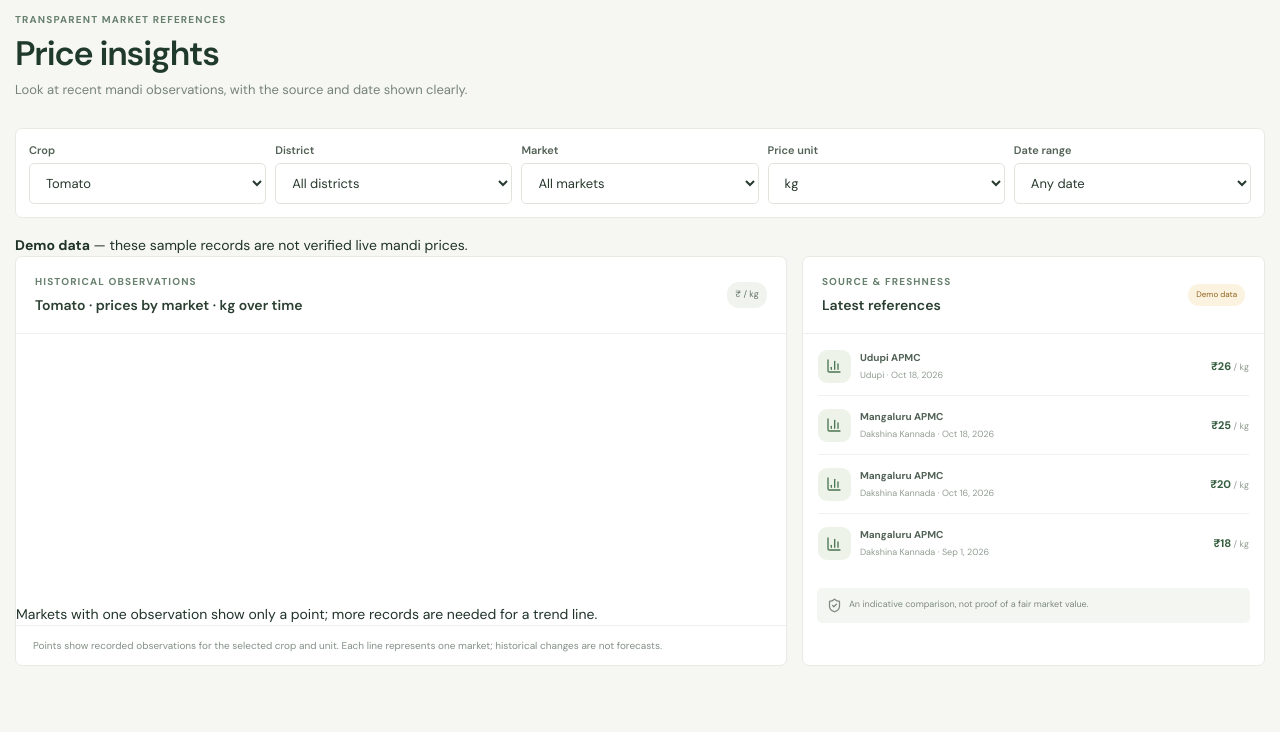
Price Insights page › filters by district, date range, and unit without mixing scales
Expected: the text "these sample records are not verified" is shown, left=90, top=236, right=468, bottom=254
Expected: the text "₹18" is shown, left=1213, top=536, right=1231, bottom=550
Select "Udupi" in the dropdown labelled "District": (394, 184) left=275, top=163, right=512, bottom=204
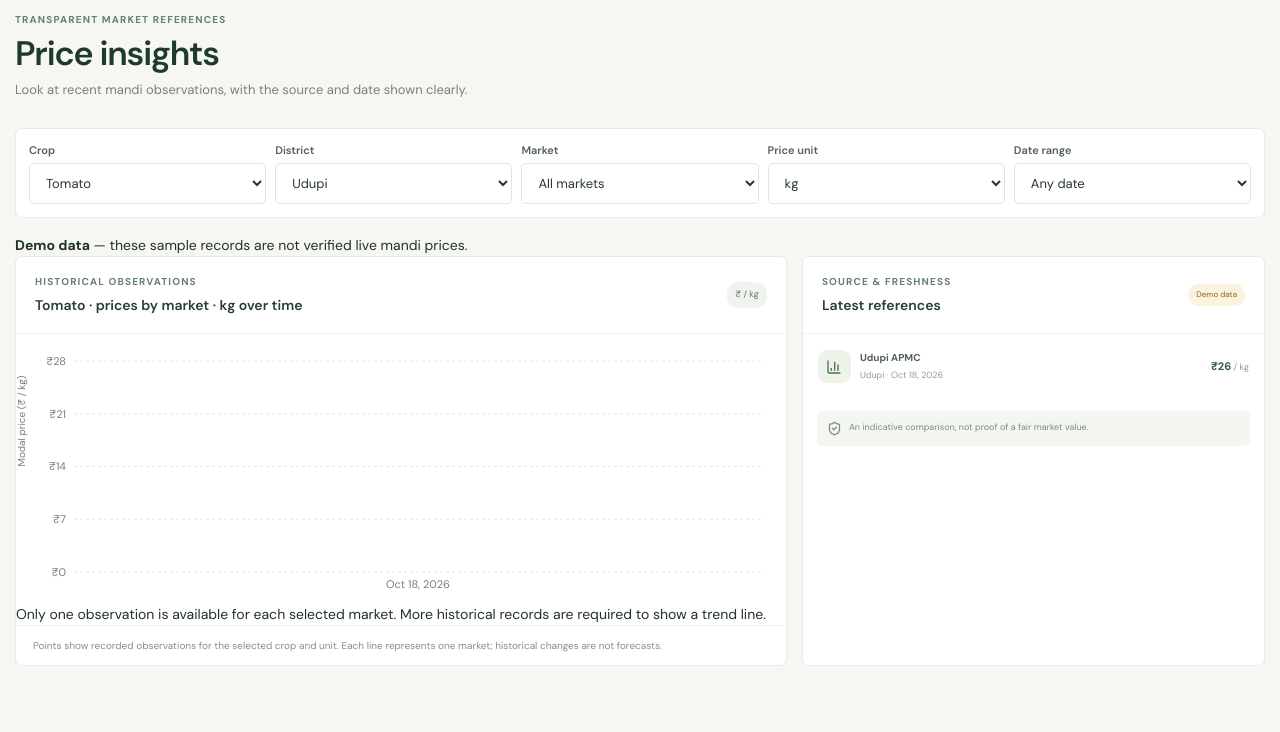
Expected: the text "₹26" is shown, left=1211, top=359, right=1231, bottom=373
Now the text "₹25" is gone
Select "Dakshina Kannada" in the dropdown labelled "District": (394, 184) left=275, top=163, right=512, bottom=204
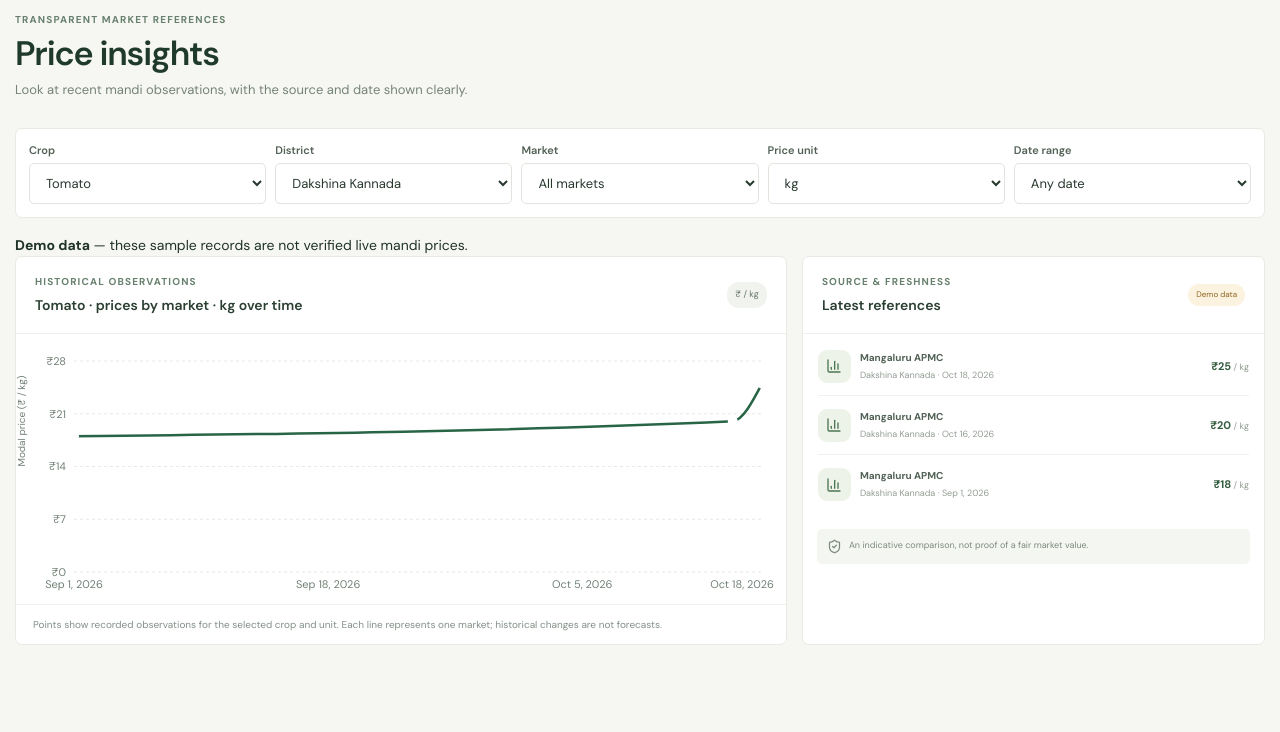
Select "kg" in the dropdown labelled "Price unit": (886, 184) left=768, top=163, right=1005, bottom=204
Now the text "₹18" is shown, box left=1213, top=477, right=1231, bottom=491
Select "Past 7 days" in the dropdown labelled "Date range": (1132, 184) left=1014, top=163, right=1251, bottom=204
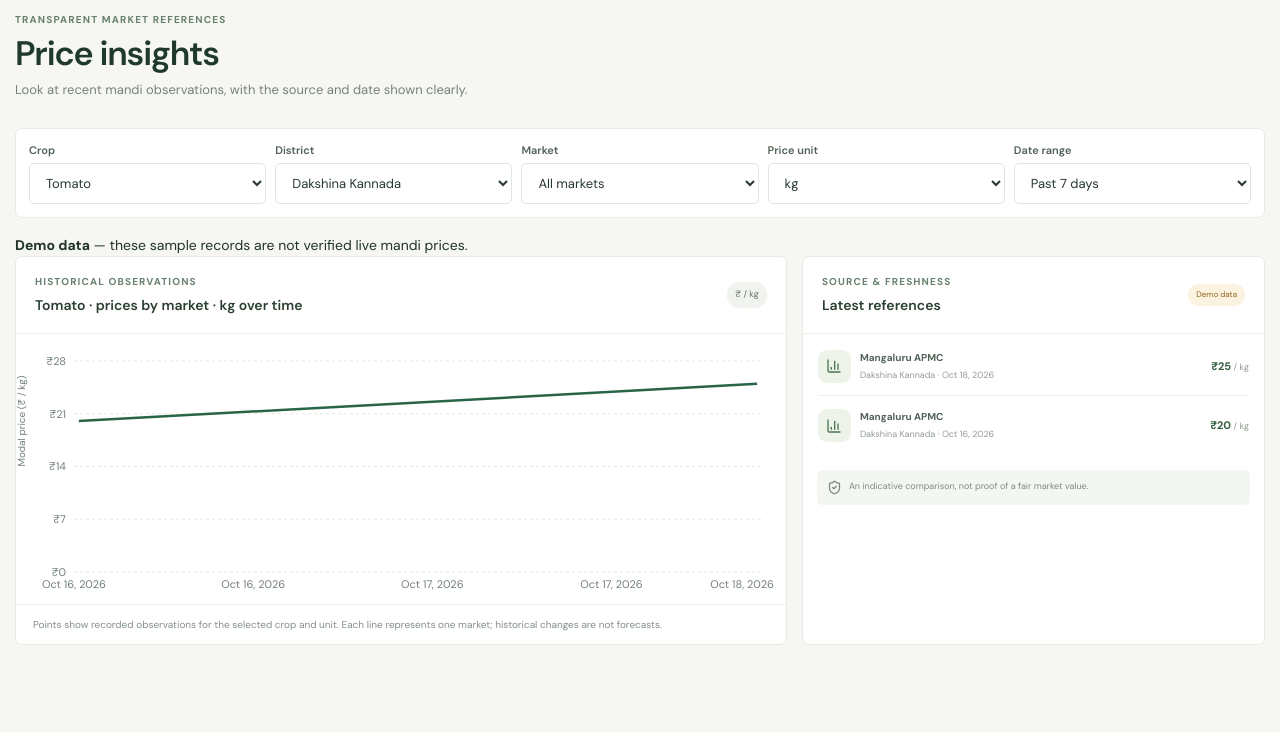
Now the text "₹18" is gone
Select "piece" in the dropdown labelled "Price unit": (886, 184) left=768, top=163, right=1005, bottom=204
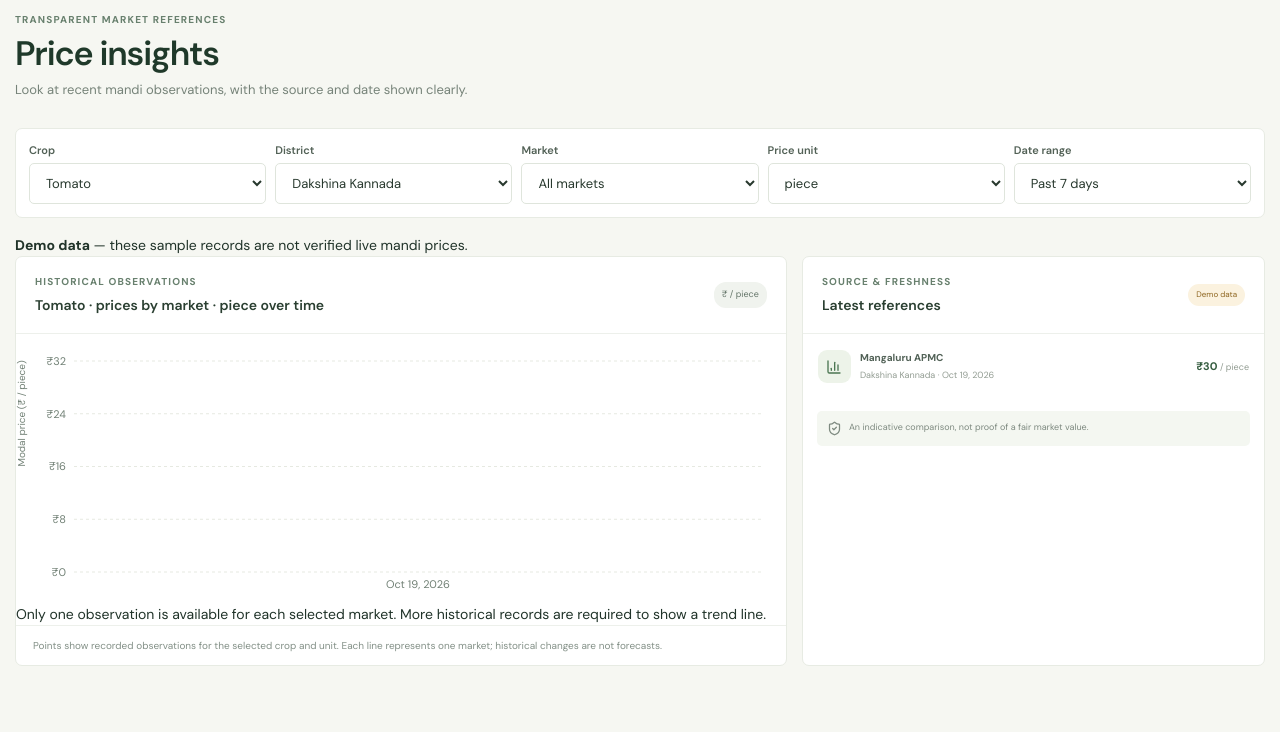
Now the text "₹25" is gone
Now the text "₹ / piece" is shown, box left=714, top=282, right=767, bottom=308
Now the text "₹30" is shown, box left=1196, top=359, right=1218, bottom=373
